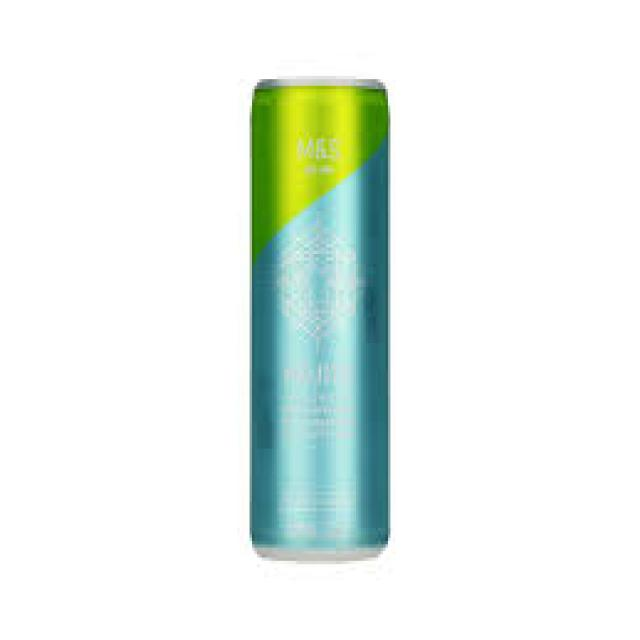Cans: (242, 66, 400, 571)
